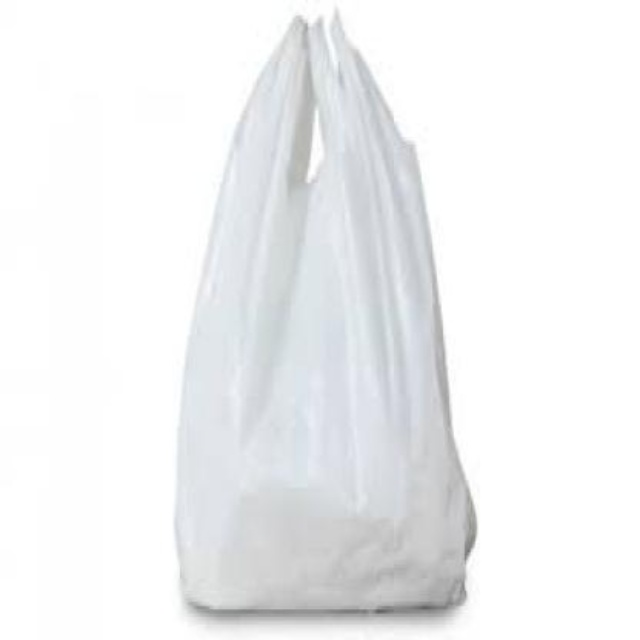trash: (175, 15, 474, 609)
